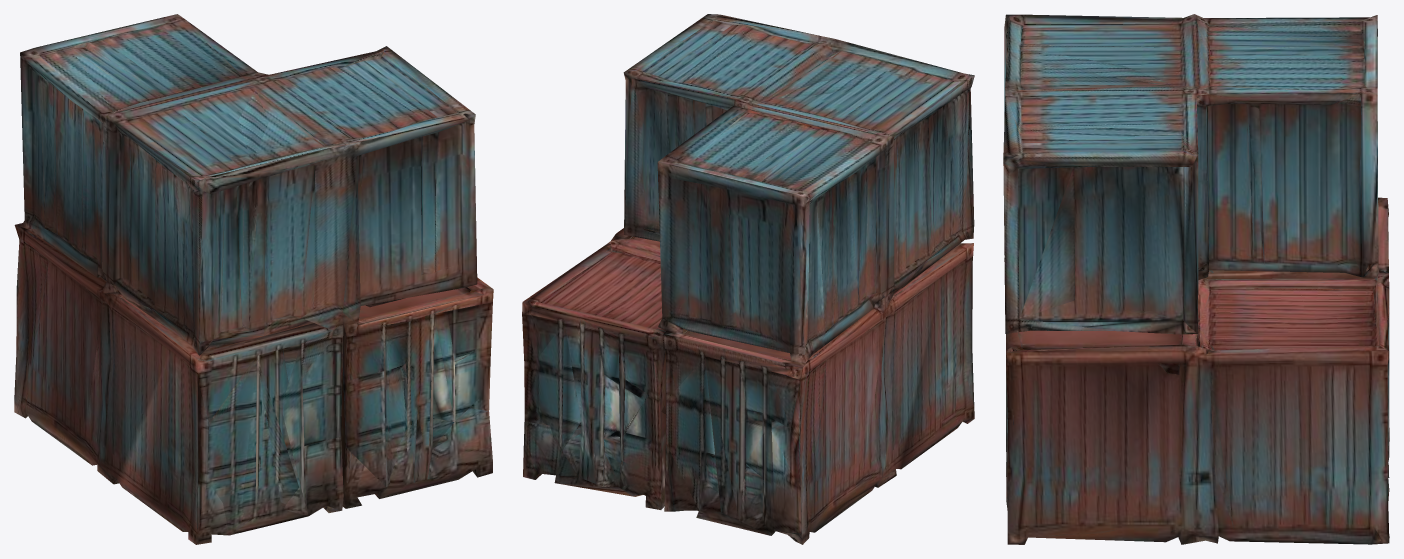
Rendered from container_stack.glb.
The picture shows the model from 3 angles, left to right: view 1: azimuth 30°, elevation 25°; view 2: azimuth 150°, elevation 25°; view 3: azimuth 270°, elevation 25°; orthographic projection. The views are drawn at different scales.
Parts seen in each view (by area): view 1: Mesh_0; view 2: Mesh_0; view 3: Mesh_0.
Part boxes in pixels (left/top/right/bottom): Mesh_0: left=14, top=14, right=493, bottom=544; Mesh_0: left=522, top=14, right=974, bottom=544; Mesh_0: left=1003, top=14, right=1389, bottom=544.
Size of the model in its own units: 1.61 by 1.9 by 1.74.
1 material, 1 textured.
